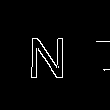N_N: (35, 30, 75, 80)
